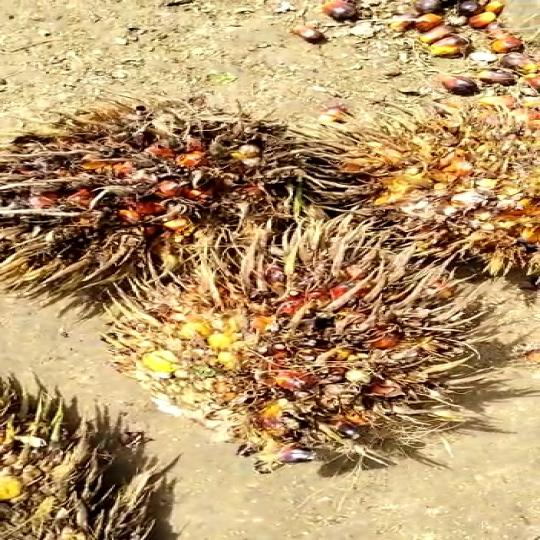terlalu masak: (95, 242, 475, 451), (0, 120, 349, 276)
